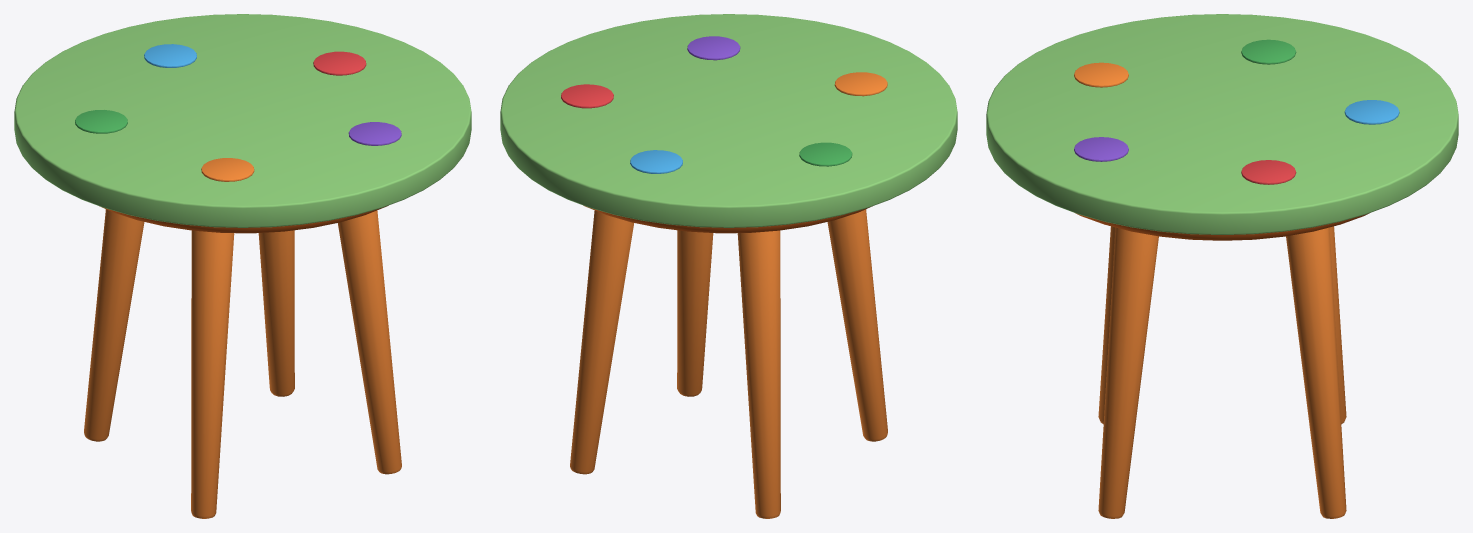
The model's file is mesa_infantil_redonda_verde.glb.
The picture shows the model from 3 angles, left to right: view 1: azimuth 30°, elevation 25°; view 2: azimuth 150°, elevation 25°; view 3: azimuth 270°, elevation 25°; orthographic projection. The views are drawn at different scales.
Parts seen in each view (by area): view 1: mesa_infantil_redonda_verde; view 2: mesa_infantil_redonda_verde; view 3: mesa_infantil_redonda_verde.
Part boxes in pixels (box(x1,y1,x2,y2)): mesa_infantil_redonda_verde: box(14, 14, 471, 518); mesa_infantil_redonda_verde: box(500, 14, 957, 518); mesa_infantil_redonda_verde: box(986, 14, 1458, 518).
Size of the model in its own units: 0.6 by 0.503 by 0.6.
1 material, 1 textured.
